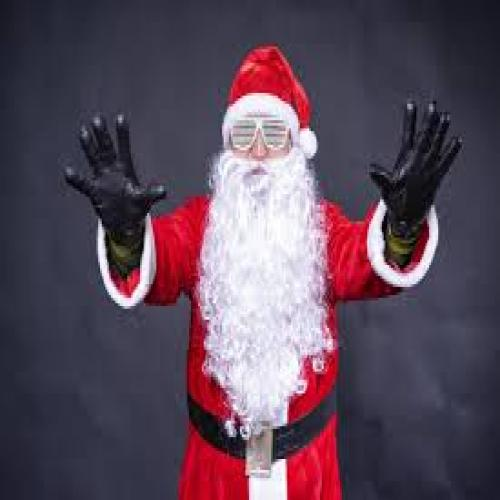Santa: (62, 41, 462, 500)
